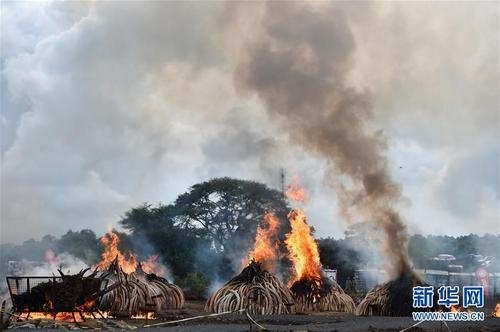fire: (241, 176, 323, 290), (93, 228, 164, 274)
